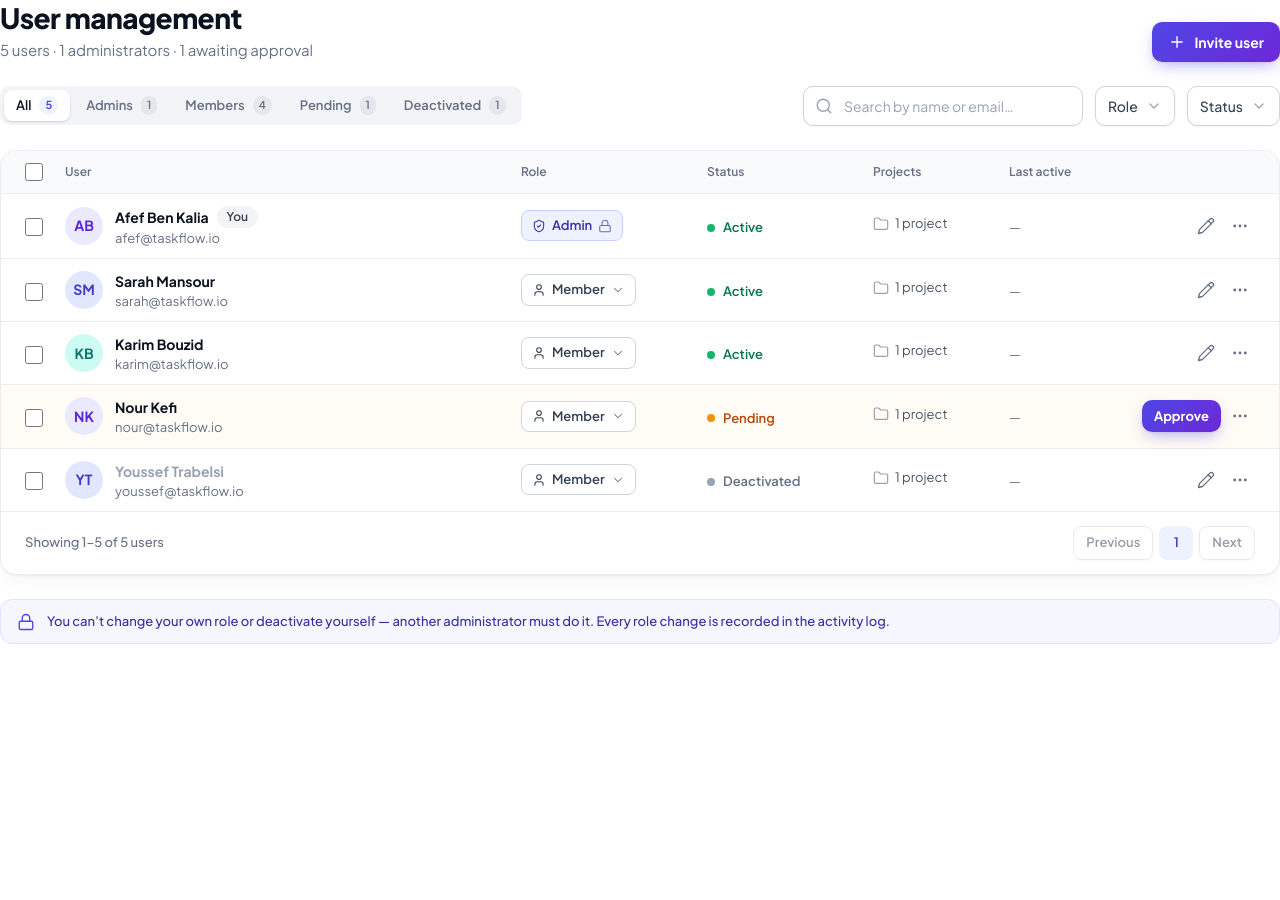
Test: Users › selection › deactivates the selected users after confirmation, then clears the selection
Expected: the text "Karim Bouzid" is shown, left=115, top=334, right=204, bottom=354
Click the checkbox named "Select Afef Ben Kalia" at [34, 227], box left=25, top=218, right=43, bottom=236
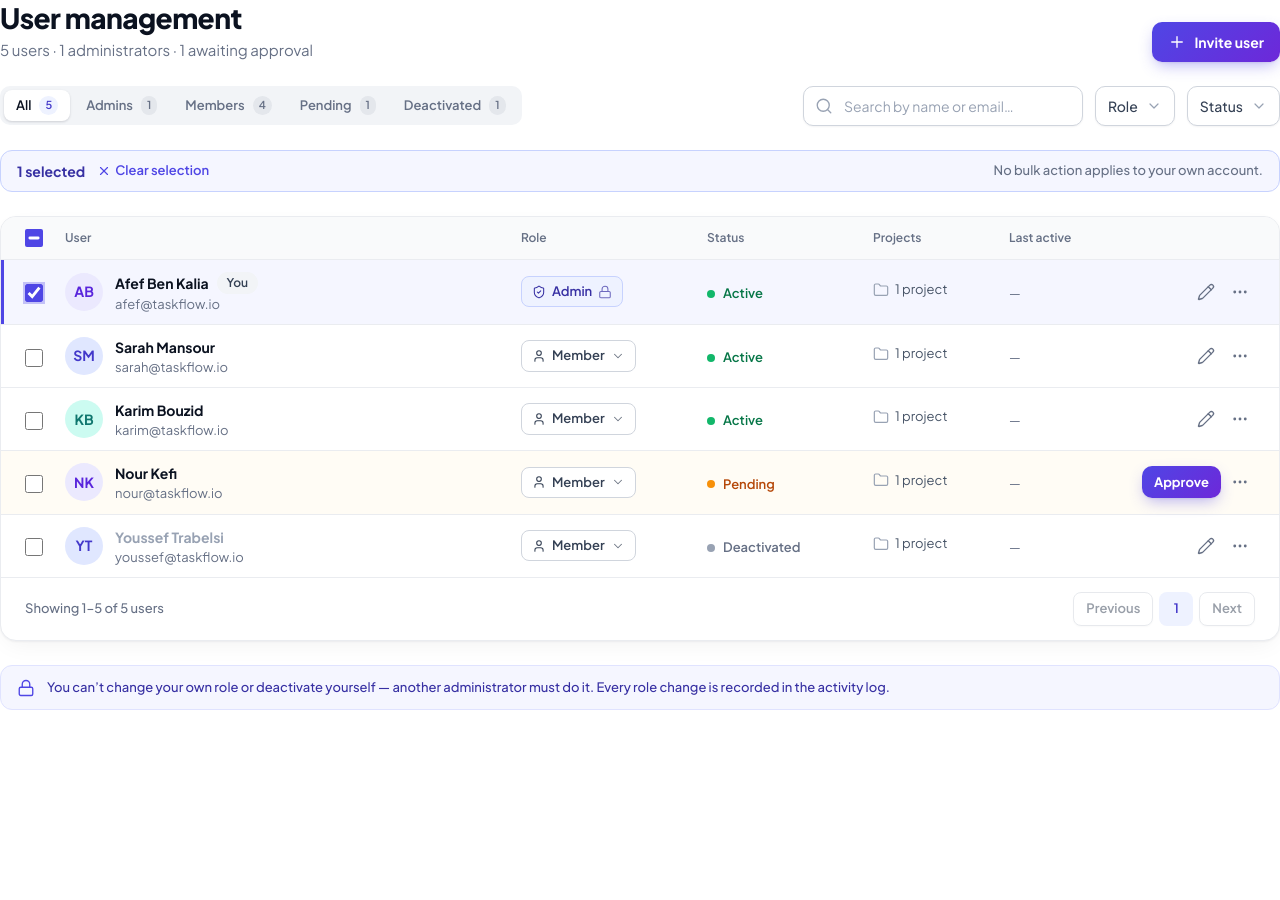
Click the checkbox named "Select Sarah Mansour" at [34, 358], box left=25, top=349, right=43, bottom=367
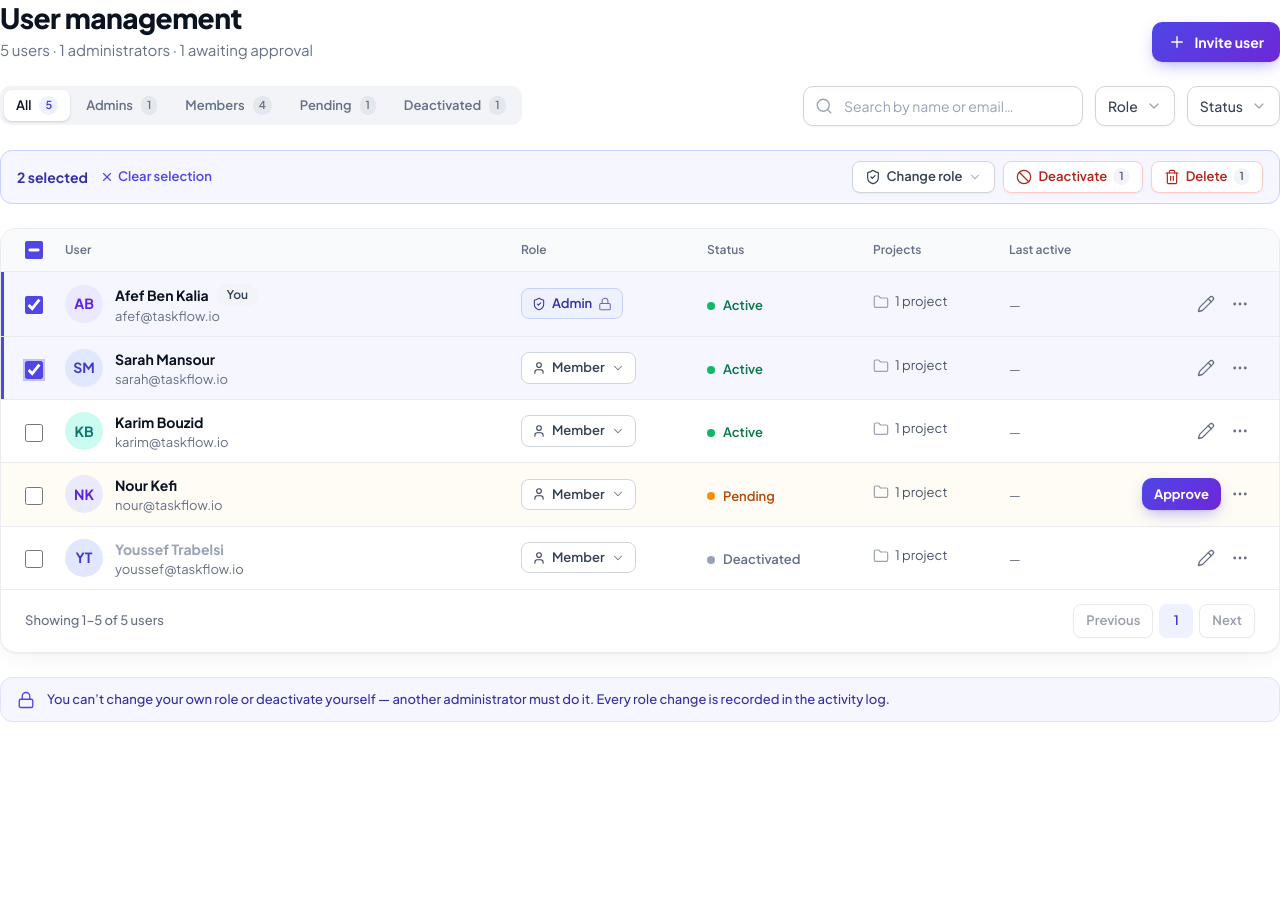
Click the checkbox named "Select Karim Bouzid" at [34, 433], box left=25, top=424, right=43, bottom=442
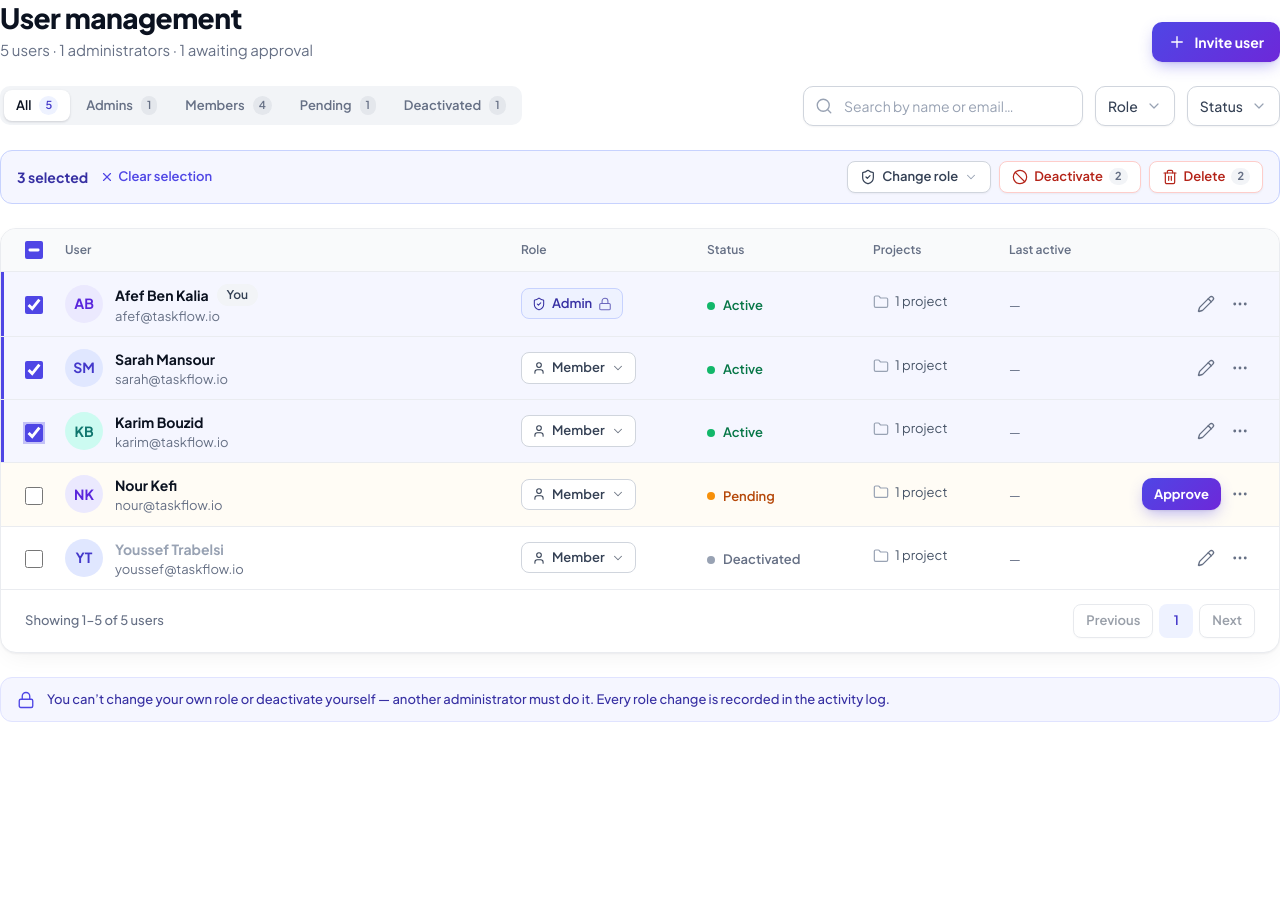
Click the button "Deactivate 2" at [1070, 176], box left=999, top=160, right=1140, bottom=192
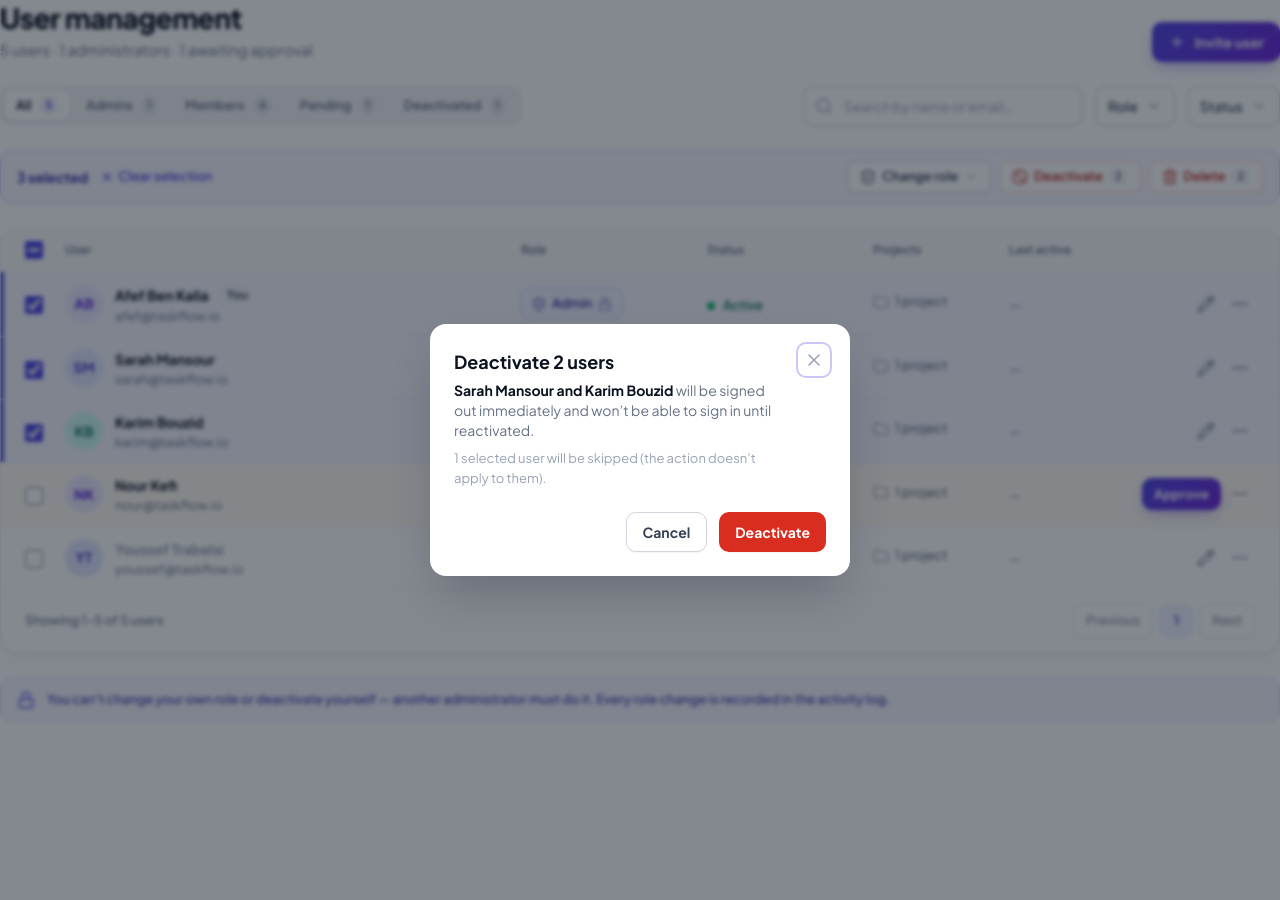
Expected: the dialog "Deactivate 2 users" shows "Sarah Mansour and Karim Bouzid will be signed out immediately", left=430, top=324, right=850, bottom=576
Expected: the dialog "Deactivate 2 users" shows "1 selected user will be skipped", left=430, top=324, right=850, bottom=576
Click the button "Deactivate" at [773, 532], box left=719, top=512, right=826, bottom=552
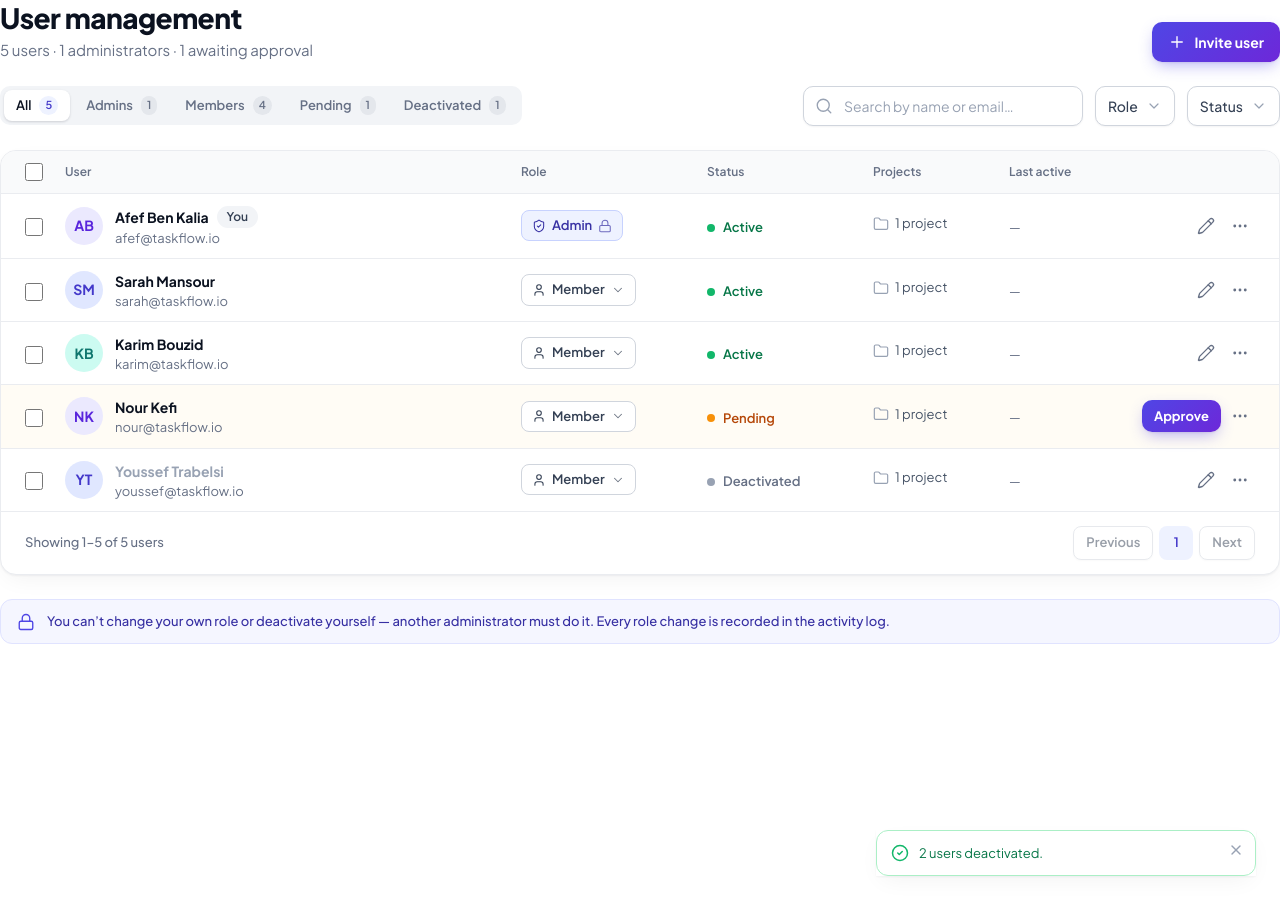
Expected: the text "2 users deactivated." is shown, left=919, top=843, right=1043, bottom=863
